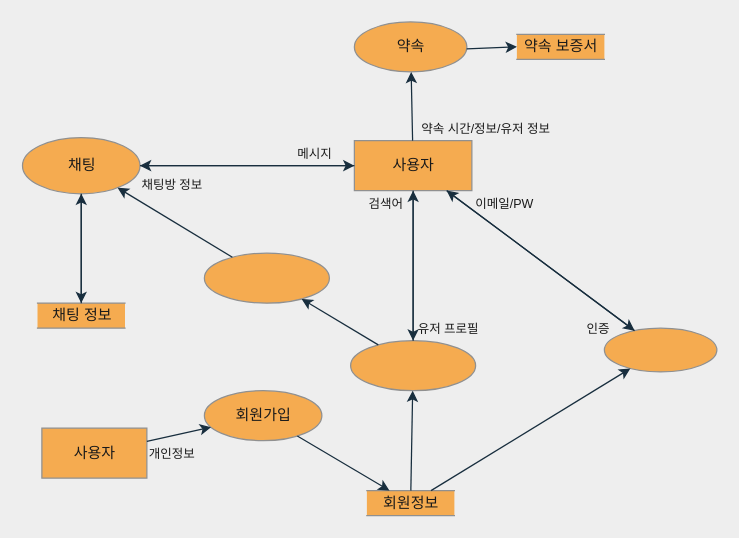
Some shapes in this 739 by 538 pixel diagram are drawn without their labels. Each missing label, with the centre of its shape:
"대화 신청" belongs at point (266, 277).
"로그인" belongs at point (660, 349).
"유저 검색" belongs at point (412, 365).
